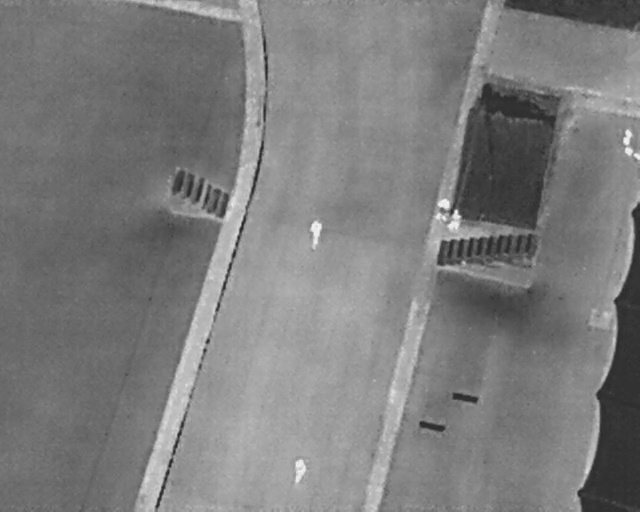Person: (433, 194, 451, 224), (447, 206, 463, 235), (309, 217, 323, 249), (293, 456, 307, 484)
